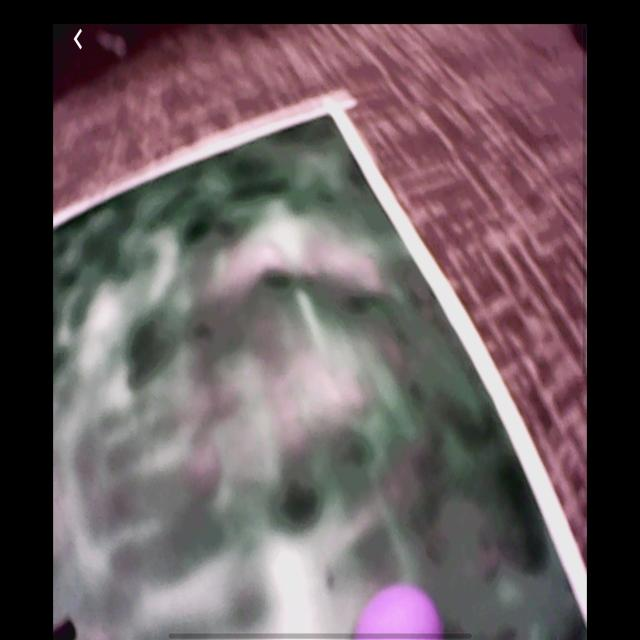ball: (354, 586, 441, 640)
